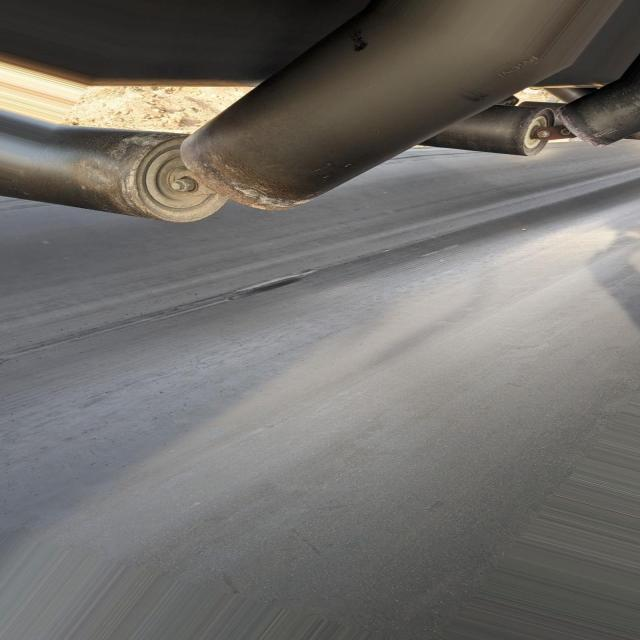Roller: (184, 3, 569, 210), (16, 130, 222, 223), (420, 107, 553, 155), (562, 85, 640, 148)
impact damage: (228, 273, 316, 304)
